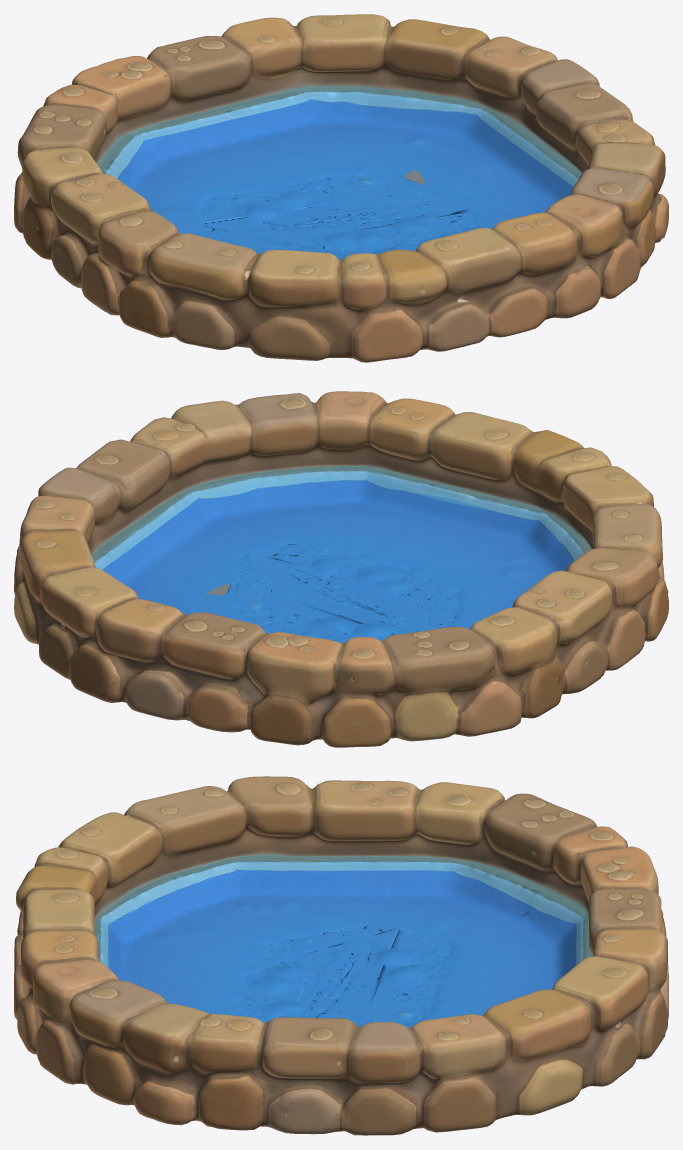
Rendered from tripo_convert_1f99a927-db21-49d3-87d4-483ca4a469d5.fbx.
The picture shows the model from 3 angles, top to bottom: view 1: azimuth 30°, elevation 25°; view 2: azimuth 150°, elevation 25°; view 3: azimuth 270°, elevation 25°; orthographic projection. The views are drawn at different scales.
Parts seen in each view (by area): view 1: tripo_node_1f99a927; view 2: tripo_node_1f99a927; view 3: tripo_node_1f99a927.
Boxes of the visible parts, left/top/right/bottom form: tripo_node_1f99a927: left=14, top=14, right=668, bottom=362; tripo_node_1f99a927: left=14, top=391, right=668, bottom=747; tripo_node_1f99a927: left=14, top=776, right=668, bottom=1135.
Bounding box in the file's own units: 0.9999 × 0.1528 × 0.9999.
Materials: 1 (1 with a texture image).
